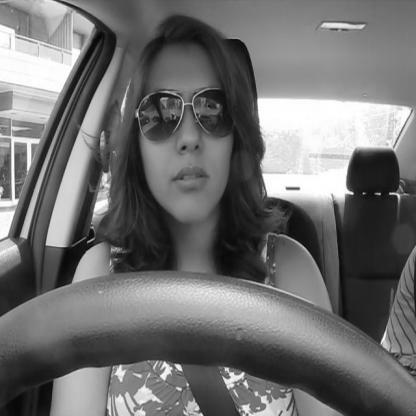seatbelt: (90, 0, 269, 416)
